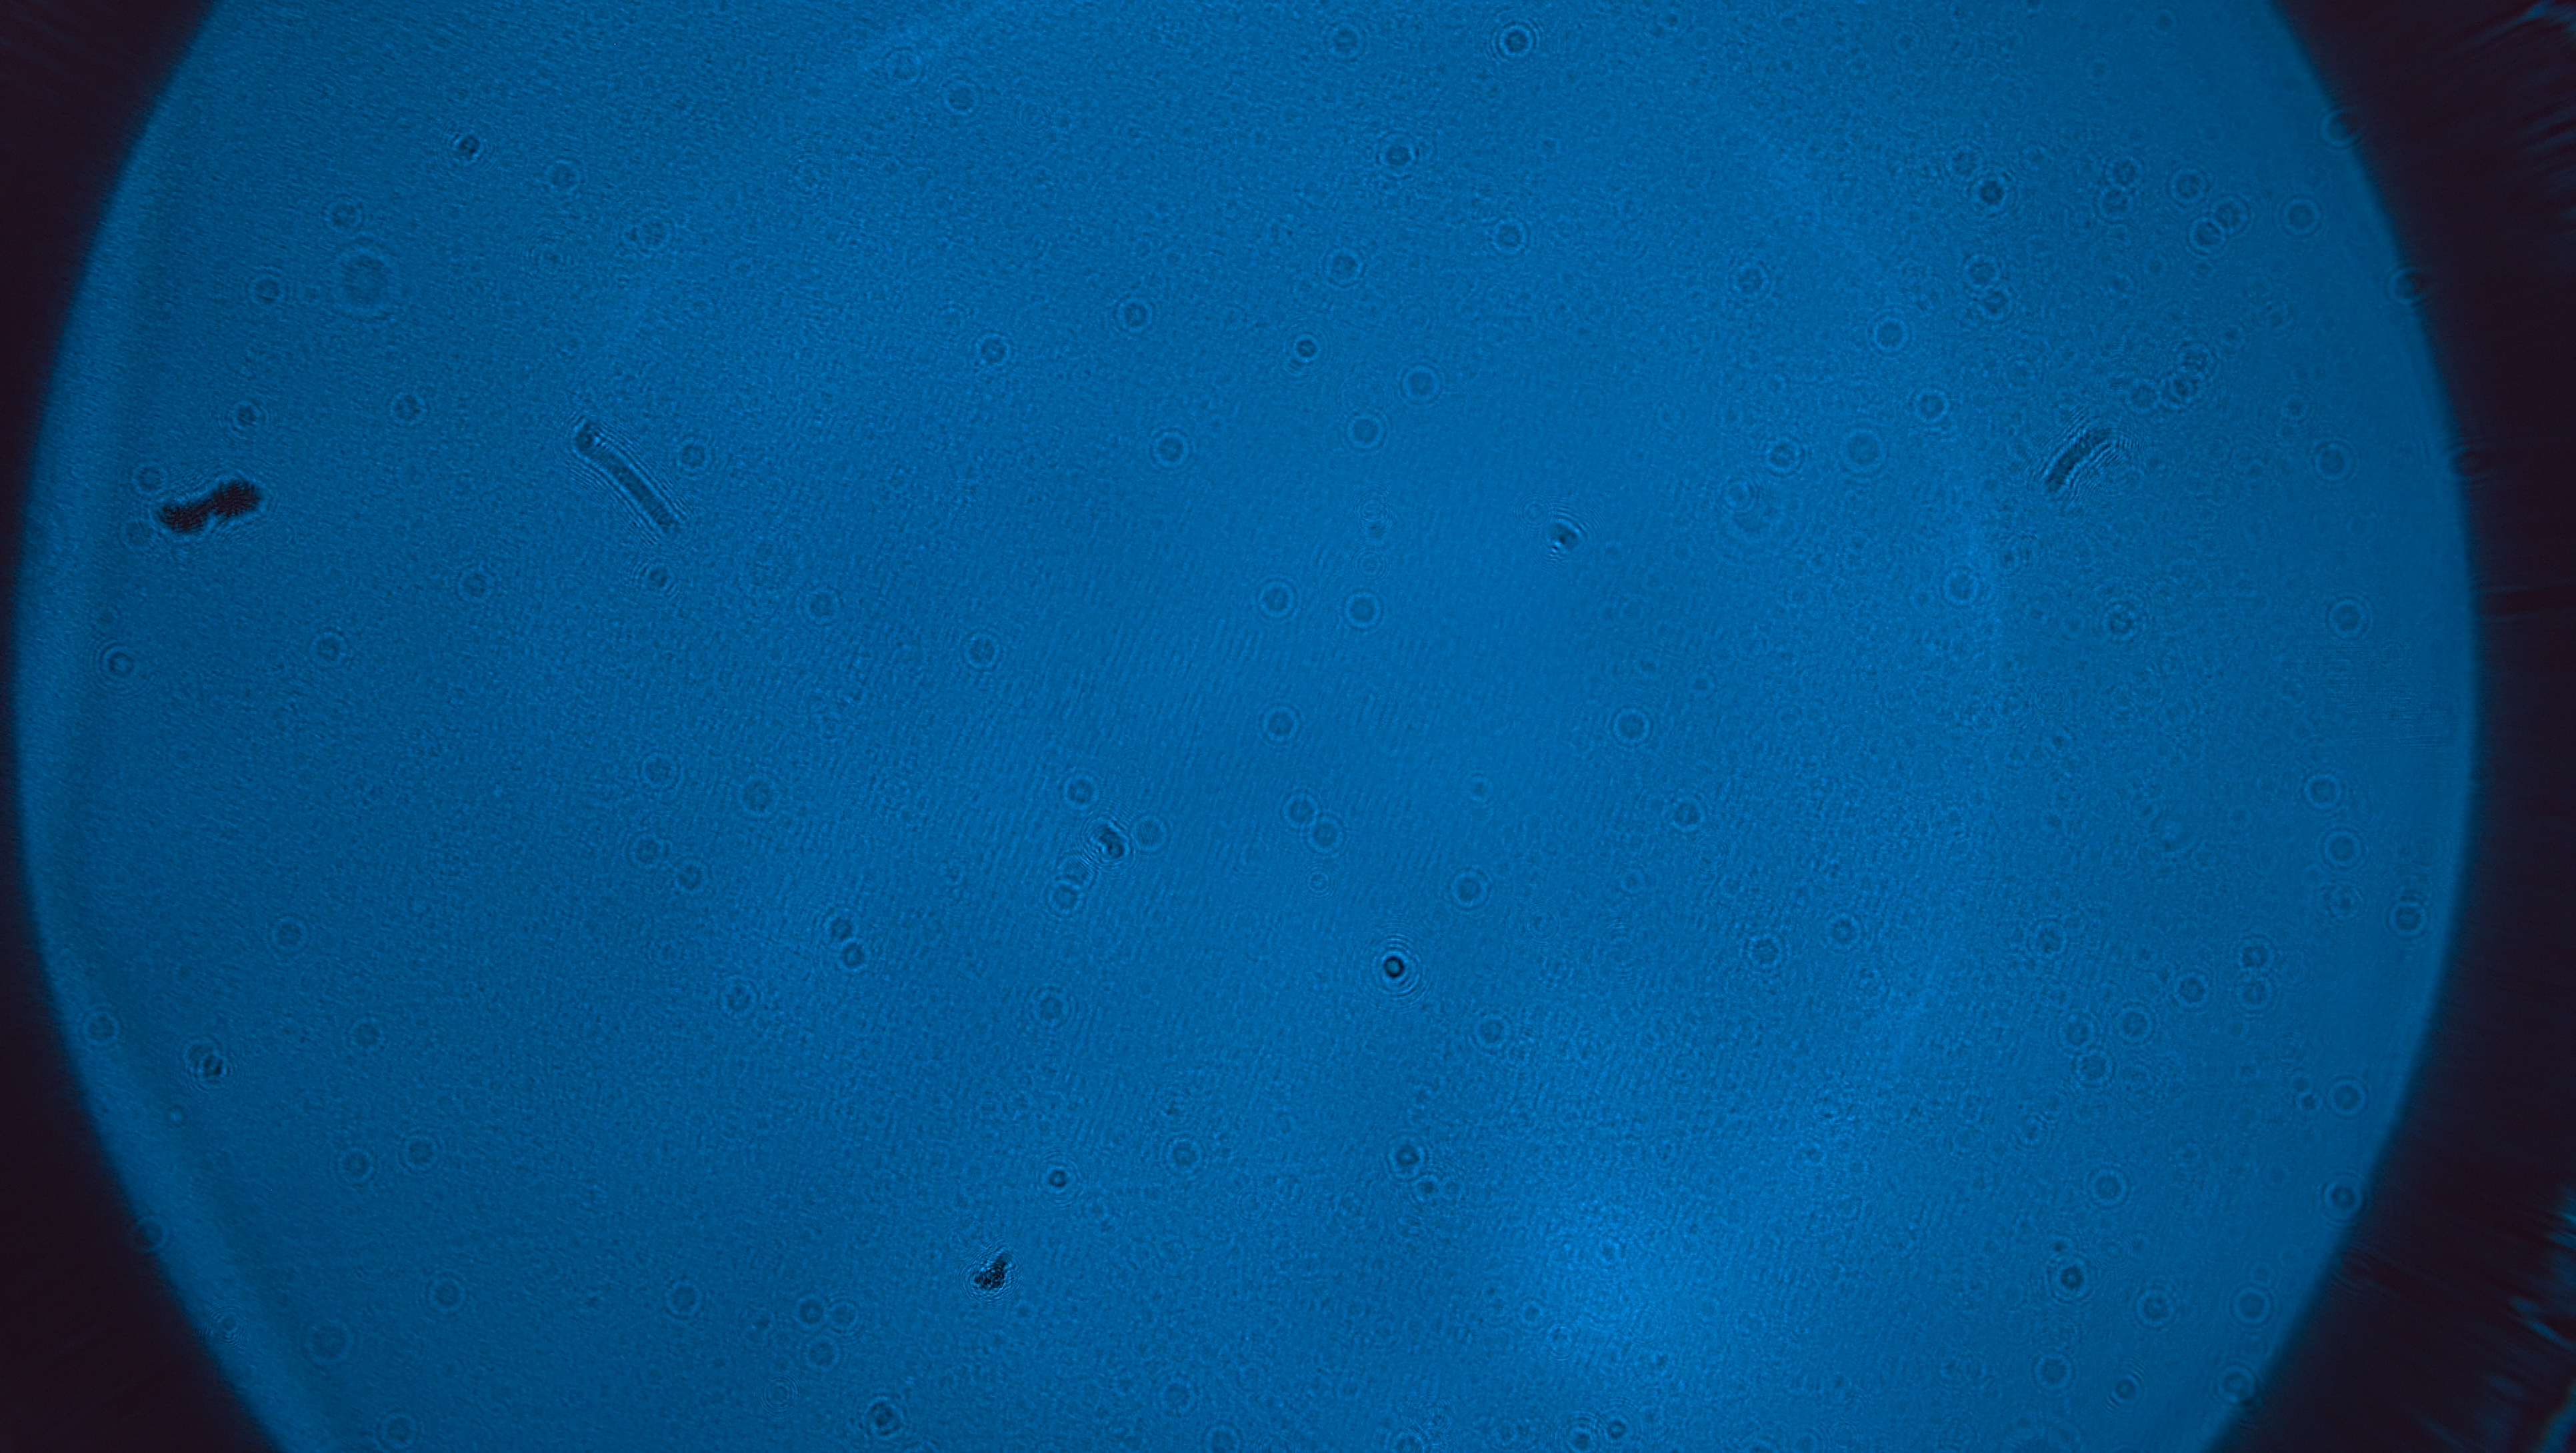bead: (1346, 926, 1435, 1005), (294, 1303, 368, 1382), (1244, 688, 1315, 756), (952, 621, 1021, 685), (1136, 419, 1207, 481), (257, 908, 331, 965), (1330, 402, 1399, 462), (81, 639, 150, 699), (626, 738, 694, 798), (1483, 14, 1553, 71), (649, 1267, 713, 1326), (936, 62, 993, 127), (1438, 858, 1499, 919), (1246, 568, 1307, 627), (444, 561, 510, 616), (1330, 580, 1387, 642), (1392, 356, 1454, 412), (865, 39, 931, 92), (531, 149, 593, 204), (2075, 1156, 2134, 1212), (1658, 784, 1716, 841), (727, 765, 789, 818), (416, 1271, 478, 1324), (2222, 1278, 2279, 1334), (1453, 757, 1507, 816), (221, 393, 283, 444), (336, 1005, 395, 1058), (297, 625, 357, 676), (1159, 1131, 1219, 1182), (1962, 165, 2024, 214), (1313, 16, 1375, 65), (2304, 439, 2367, 487), (384, 381, 439, 435), (331, 1136, 387, 1189), (1108, 287, 1166, 338), (1813, 908, 1872, 959), (78, 996, 129, 1055), (1476, 214, 1537, 262), (711, 972, 768, 1023), (2319, 591, 2376, 642), (1606, 697, 1656, 756), (1318, 242, 1376, 292), (828, 931, 890, 977), (1152, 1365, 1205, 1418), (970, 324, 1021, 379), (667, 428, 722, 480), (396, 1122, 446, 1179), (2295, 766, 2351, 816), (2318, 823, 2367, 880), (1900, 381, 1957, 430), (1371, 129, 1428, 179), (2065, 1042, 2114, 1096), (1725, 257, 1775, 310), (2275, 188, 2328, 237), (1039, 873, 1092, 922), (1736, 929, 1790, 977), (798, 586, 853, 634), (621, 819, 669, 873), (667, 853, 720, 901), (241, 265, 288, 319), (315, 186, 368, 234), (1053, 765, 1108, 811), (1865, 308, 1914, 357), (2127, 1281, 2178, 1329), (2327, 1067, 2373, 1120), (775, 1287, 832, 1329), (2162, 158, 2210, 207), (2385, 894, 2434, 942), (373, 1407, 428, 1449), (2031, 1345, 2079, 1391), (1939, 561, 1985, 609), (2178, 218, 2233, 257), (798, 1334, 846, 1379), (2164, 970, 2215, 1011), (1302, 814, 1350, 857), (2107, 1005, 2158, 1044), (1274, 788, 1322, 828), (1138, 807, 1175, 858), (2105, 150, 2143, 193), (1959, 251, 2003, 287)
